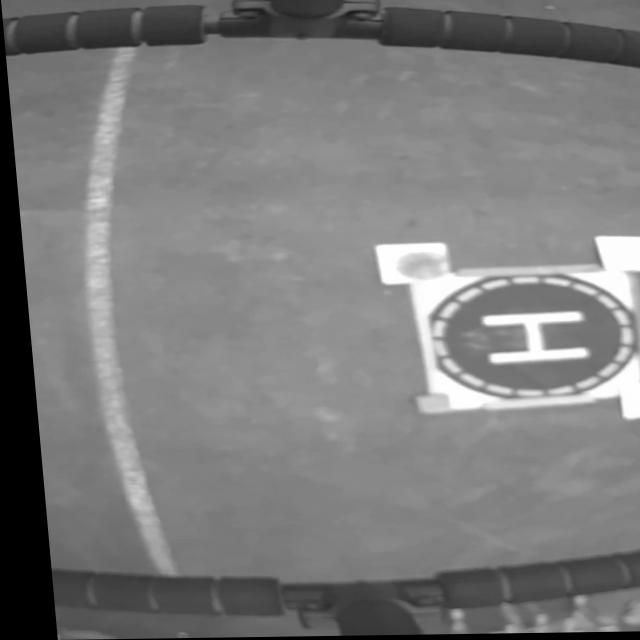Helipad: (471, 312, 584, 367)
